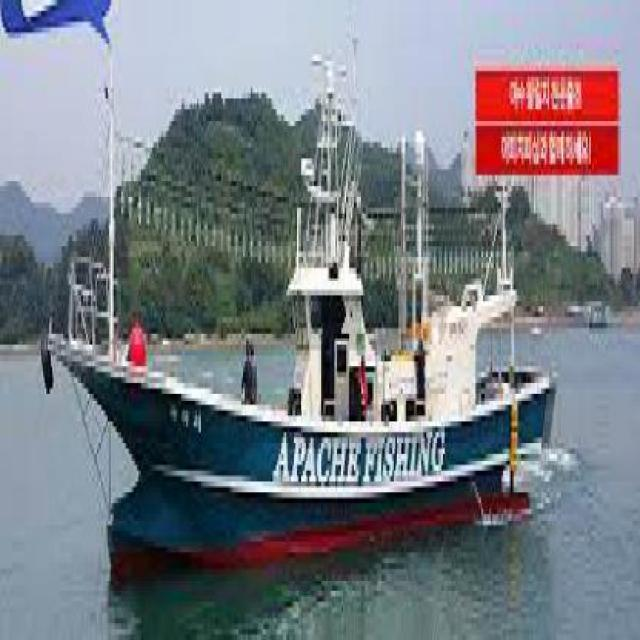fish-b: (33, 17, 564, 593)
